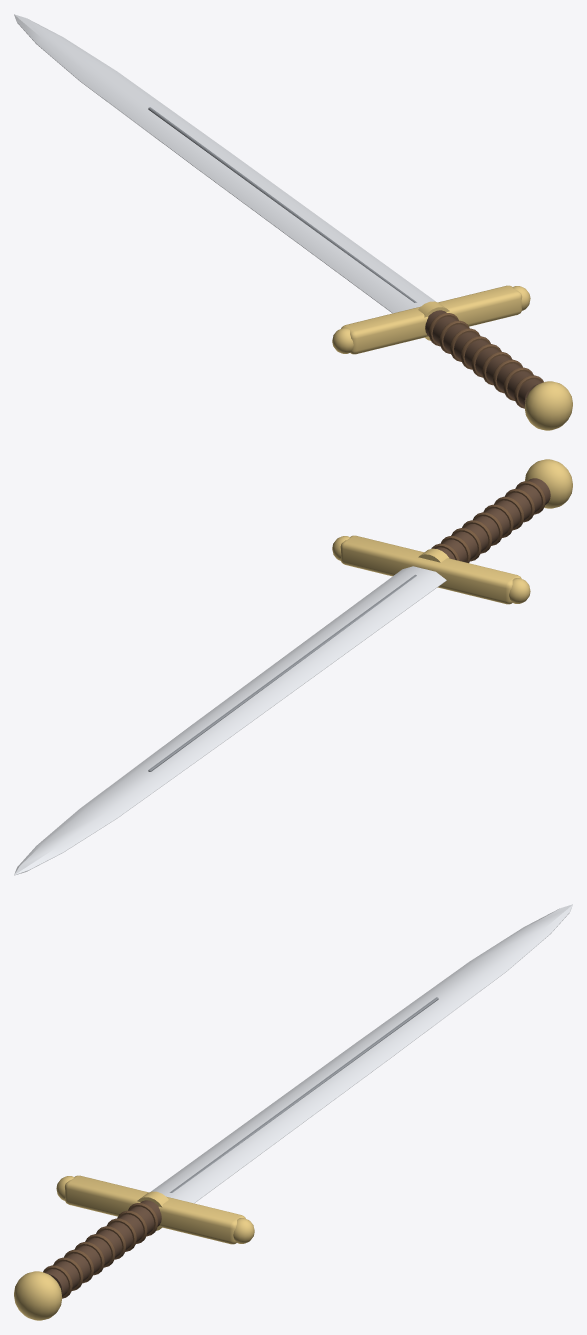
File: sword.glb
3 views of the same model, one above another, from view 1: azimuth 30°, elevation 25°; view 2: azimuth 150°, elevation 25°; view 3: azimuth 330°, elevation 25° (orthographic).
Visible parts, largest first — view 1: sword; view 2: sword; view 3: sword.
Boxes of the visible parts, x1,y1,x2,y2 form: sword: (14, 14, 572, 430); sword: (14, 459, 572, 875); sword: (14, 904, 572, 1320).
Size of the model in its own units: 0.232 by 0.052 by 1.12.
